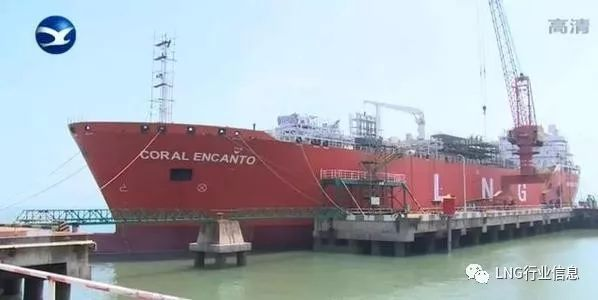Cargoship: (69, 74, 582, 243)
